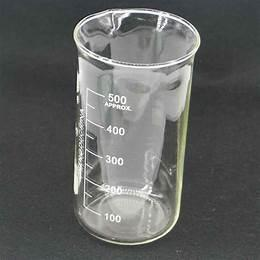Beaker: (64, 5, 198, 244)
